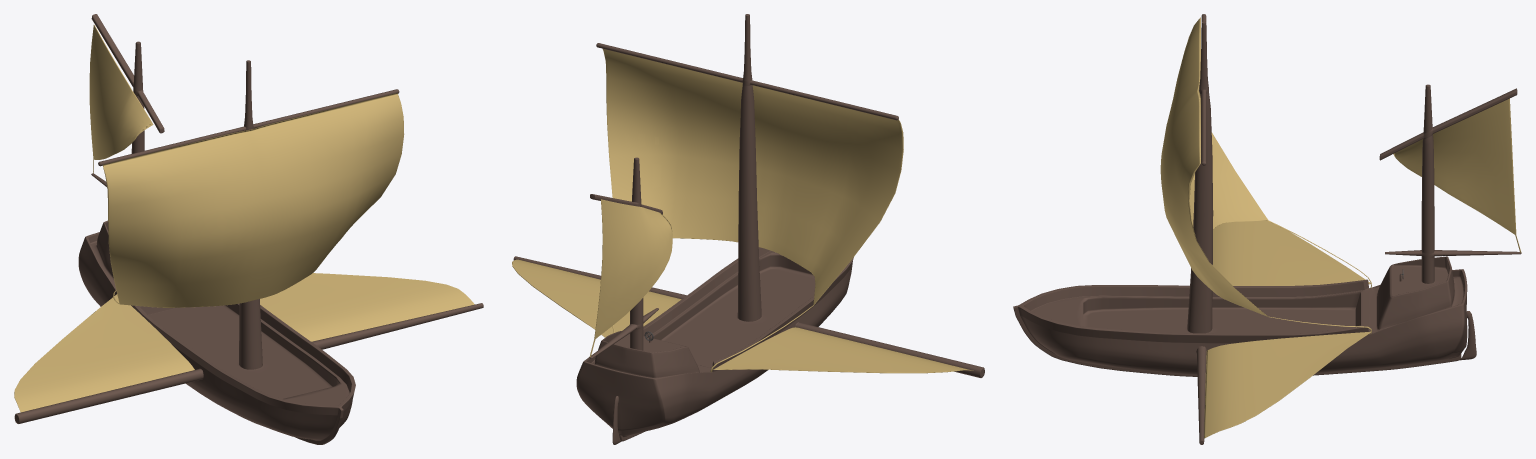
The model's file is Ship_text.fbx.
3 renders of one model, left to right at view 1: azimuth 30°, elevation 25°; view 2: azimuth 150°, elevation 25°; view 3: azimuth 270°, elevation 25°, orthographic.
Visible parts, largest first — view 1: Vela, Barco, Alaizq, Aladch, Velachikita; view 2: Vela, Barco, Velachikita, Alaizq, Aladch; view 3: Barco, Vela, Aladch, Velachikita, Alaizq.
Boxes of the visible parts, left/top/right/bottom form: Vela: left=103, top=93, right=404, bottom=307; Barco: left=14, top=14, right=483, bottom=444; Alaizq: left=14, top=294, right=194, bottom=412; Aladch: left=260, top=273, right=474, bottom=341; Velachikita: left=89, top=25, right=153, bottom=173; Vela: left=602, top=49, right=903, bottom=372; Barco: left=513, top=14, right=984, bottom=444; Velachikita: left=589, top=199, right=672, bottom=356; Alaizq: left=713, top=327, right=973, bottom=373; Aladch: left=512, top=259, right=681, bottom=337; Barco: left=1013, top=14, right=1521, bottom=444; Vela: left=1160, top=17, right=1371, bottom=333; Aladch: left=1204, top=331, right=1371, bottom=438; Velachikita: left=1393, top=98, right=1521, bottom=252; Alaizq: left=1212, top=221, right=1370, bottom=285.
Bounding box in the file's own units: 1177 × 845 × 1096.
